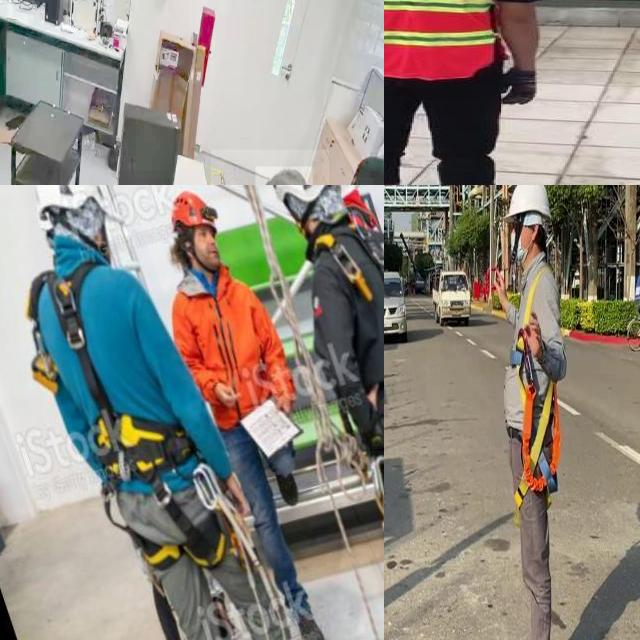Harness: (45, 263, 194, 484), (518, 339, 562, 508)
hand_glove: (502, 71, 536, 109)
head_nohelmet: (255, 166, 312, 185)
person: (384, 0, 545, 185)
vest: (384, 0, 504, 78)
